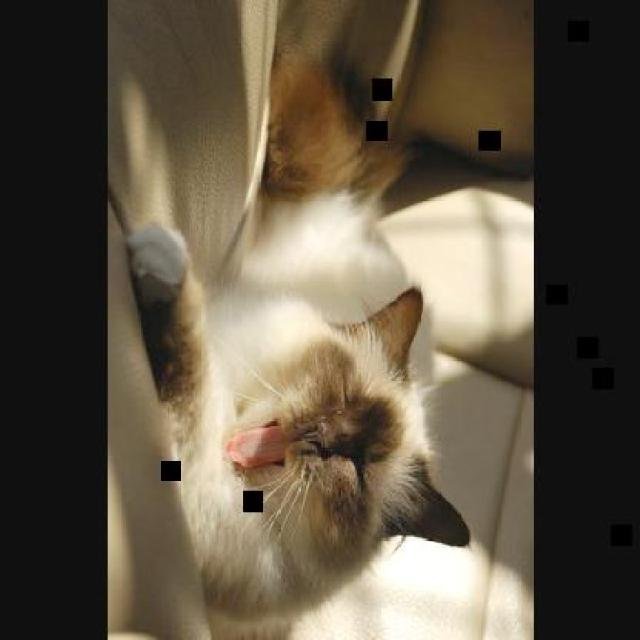unauthorized: (110, 41, 462, 638)
